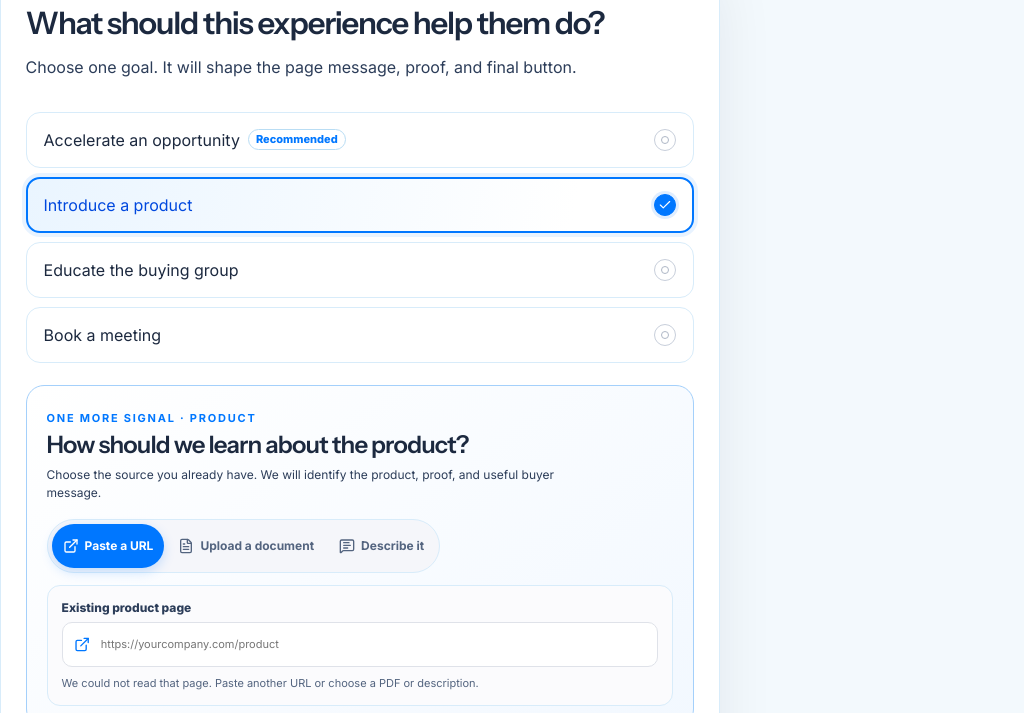
it: guided campaign workspace › lets a resumed product objective replace a failed URL
Expected: the heading "How should we learn about the product?" is shown, [47,430,469,459]
Expected: the message shows "We could not read that page", [62,676,479,690]
Click the tab "Describe it": [382, 546] box [328,524,435,568]
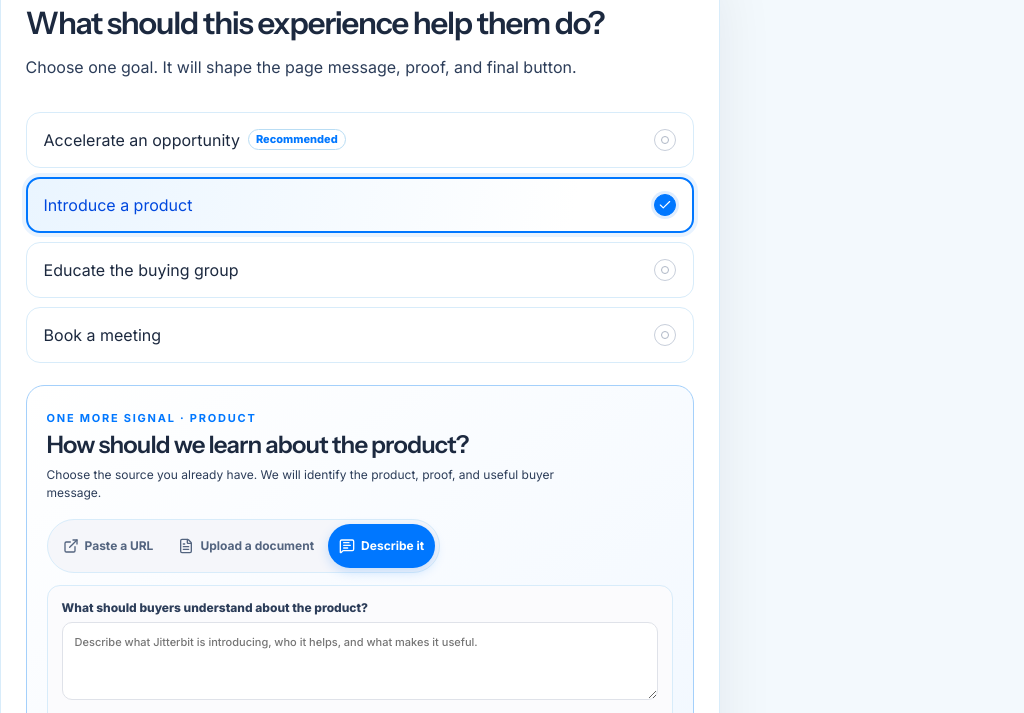
Replace the text in the text box labelled "What should buyers understand about the product?" with "A governed product story that gives every buyer a useful next step.": [360, 661] box [62,622,658,700]
(page scrolled)
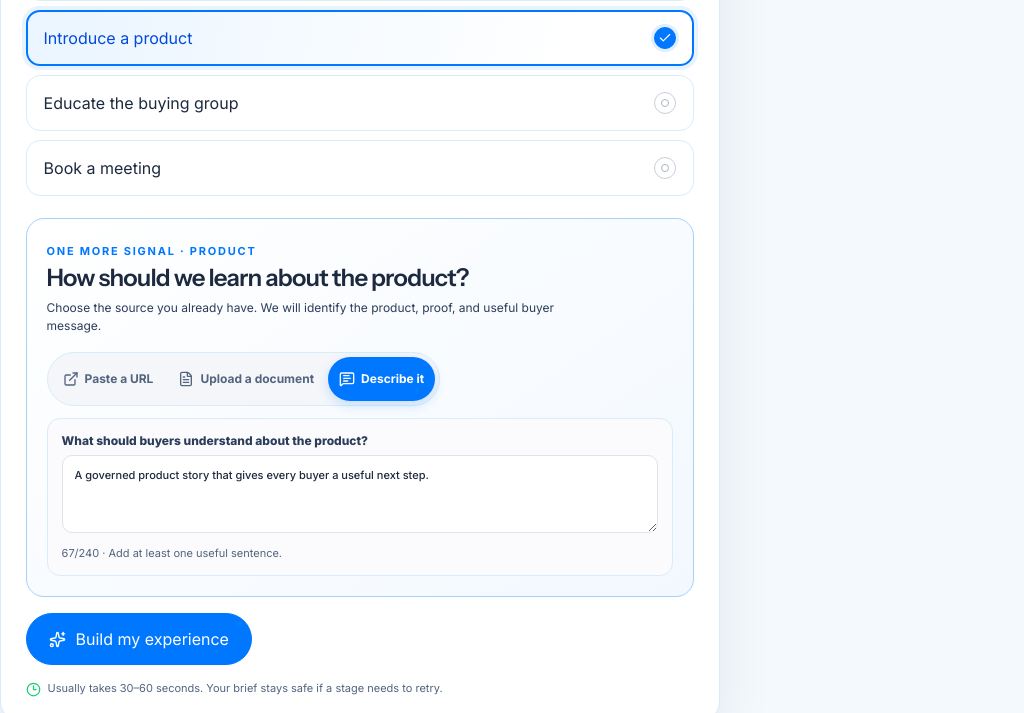
Expected: the button "Build my experience" is enabled, [26,613,252,665]
